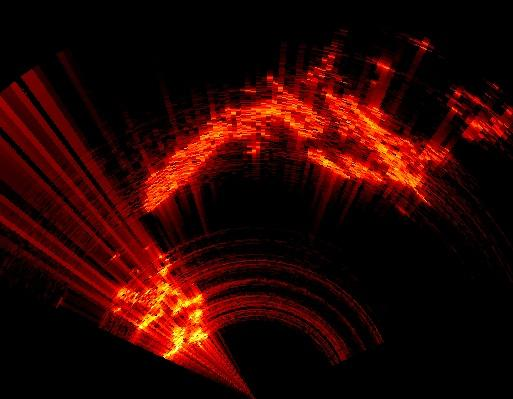shipwreck: (144, 79, 327, 210), (306, 95, 447, 200), (117, 261, 208, 358)
